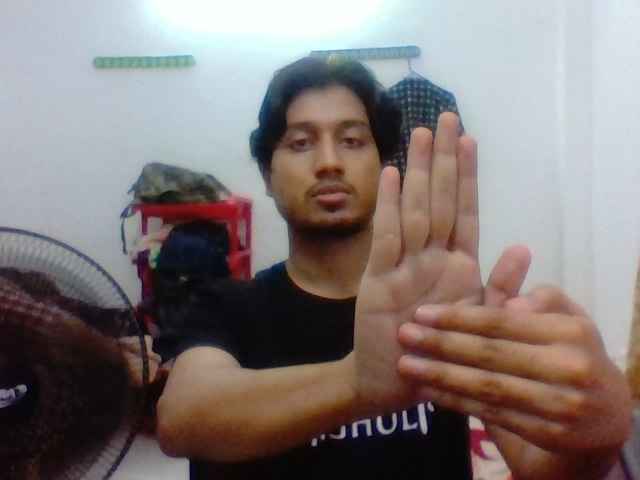H: (351, 105, 609, 460)
